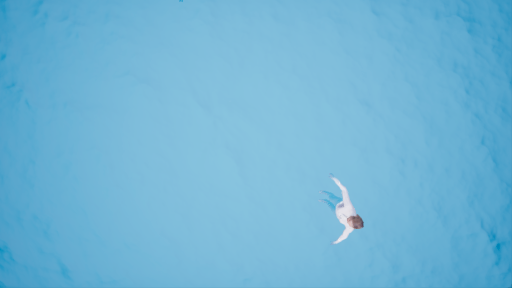person: (314, 171, 369, 241)
